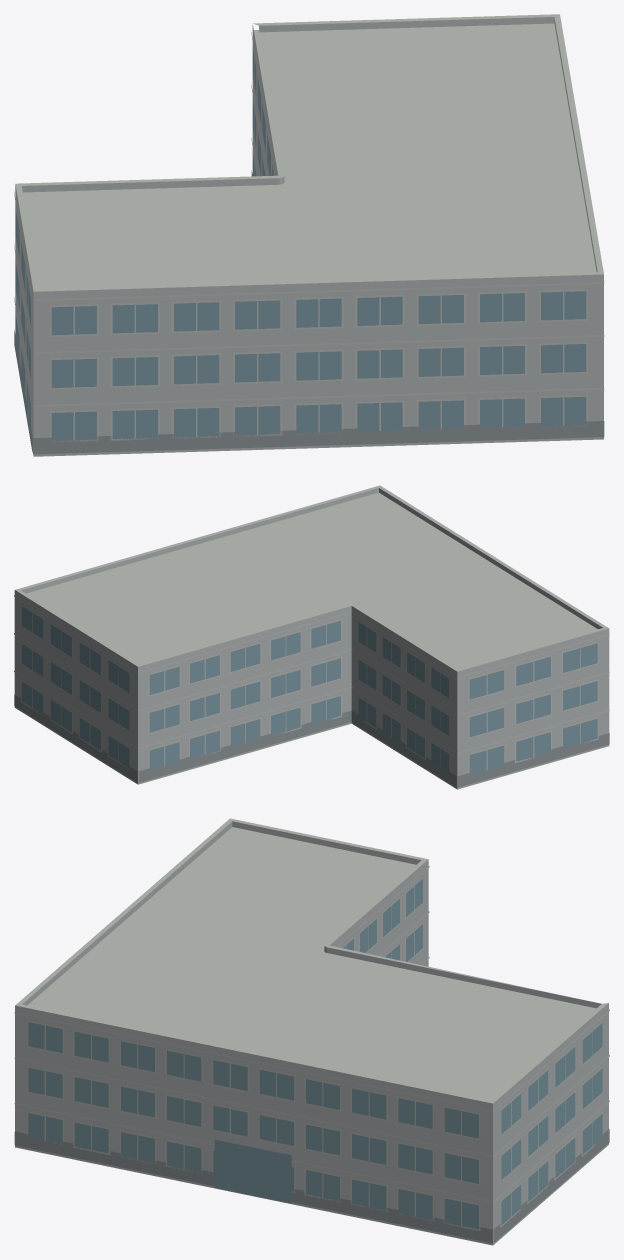
File: public-794d5b7f-1d75-4e3a-b643-7b2286e3bbe1.glb
3 views of the same model, one above another, from view 1: azimuth 30°, elevation 25°; view 2: azimuth 150°, elevation 25°; view 3: azimuth 270°, elevation 25° (orthographic). The views are drawn at different scales.
Visible parts, largest first — view 1: public-794d5b7f-1d75-4e3a-b643-7b2286e3bbe1; view 2: public-794d5b7f-1d75-4e3a-b643-7b2286e3bbe1; view 3: public-794d5b7f-1d75-4e3a-b643-7b2286e3bbe1.
Boxes of the visible parts, x1,y1,x2,y2 form: public-794d5b7f-1d75-4e3a-b643-7b2286e3bbe1: [14, 14, 604, 456]; public-794d5b7f-1d75-4e3a-b643-7b2286e3bbe1: [14, 485, 609, 789]; public-794d5b7f-1d75-4e3a-b643-7b2286e3bbe1: [14, 818, 609, 1245].
Bounding box in the file's own units: 39.55 × 9.15 × 34.81.
